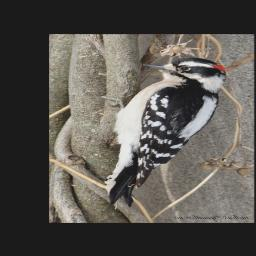Woodpecker: (102, 57, 226, 207)
